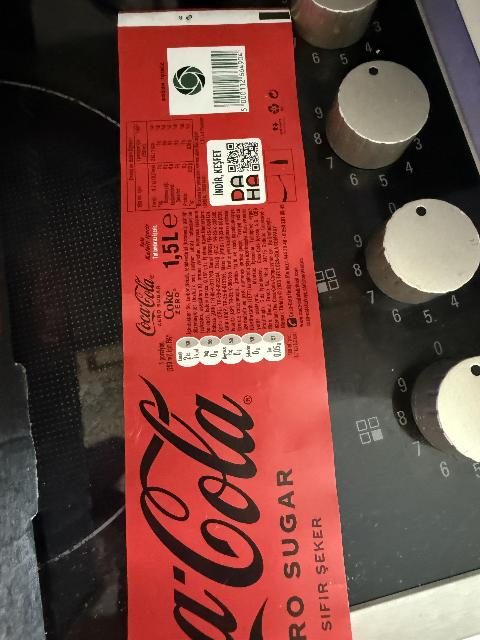Plastik: (117, 5, 330, 633)
